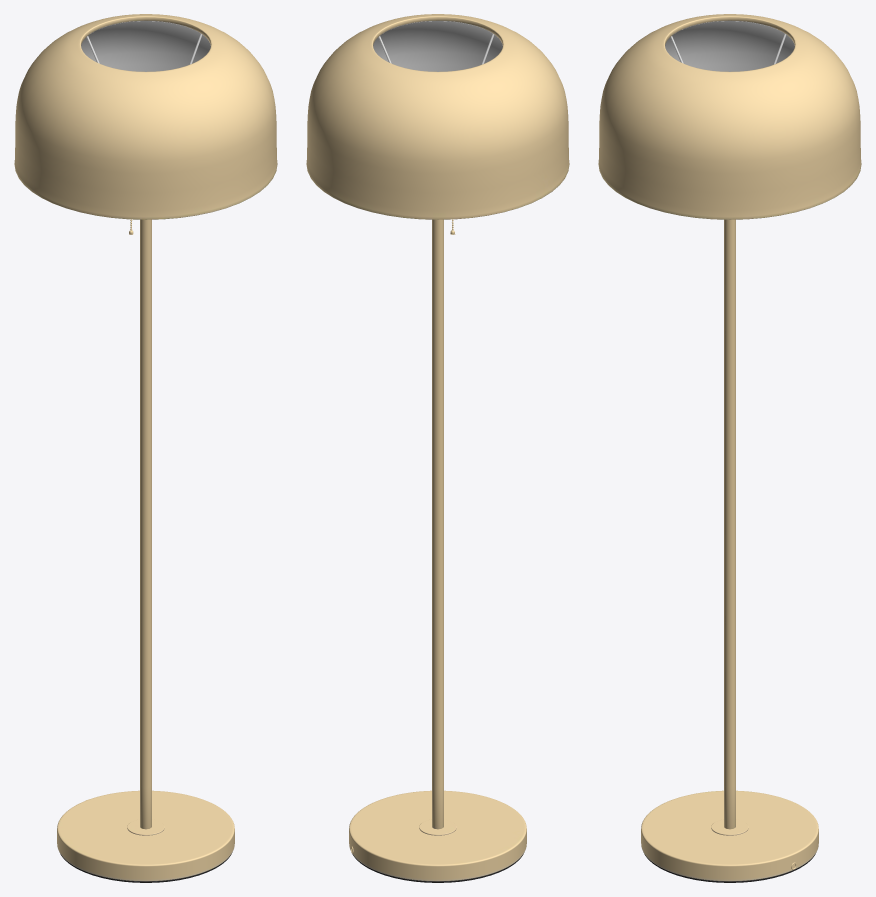
Rendered from floorLampOslo.glb.
The picture shows the model from 3 angles, left to right: view 1: azimuth 30°, elevation 25°; view 2: azimuth 150°, elevation 25°; view 3: azimuth 270°, elevation 25°; orthographic projection.
Visible parts, largest first — view 1: Elements; view 2: Elements; view 3: Elements.
Boxes of the visible parts, x1,y1,x2,y2 form: Elements: (14, 14, 277, 882); Elements: (306, 14, 569, 882); Elements: (598, 14, 861, 882).
Size of the model in its own units: 0.4126 by 1.39 by 0.4126.
Materials: 2 (2 with a texture image).
